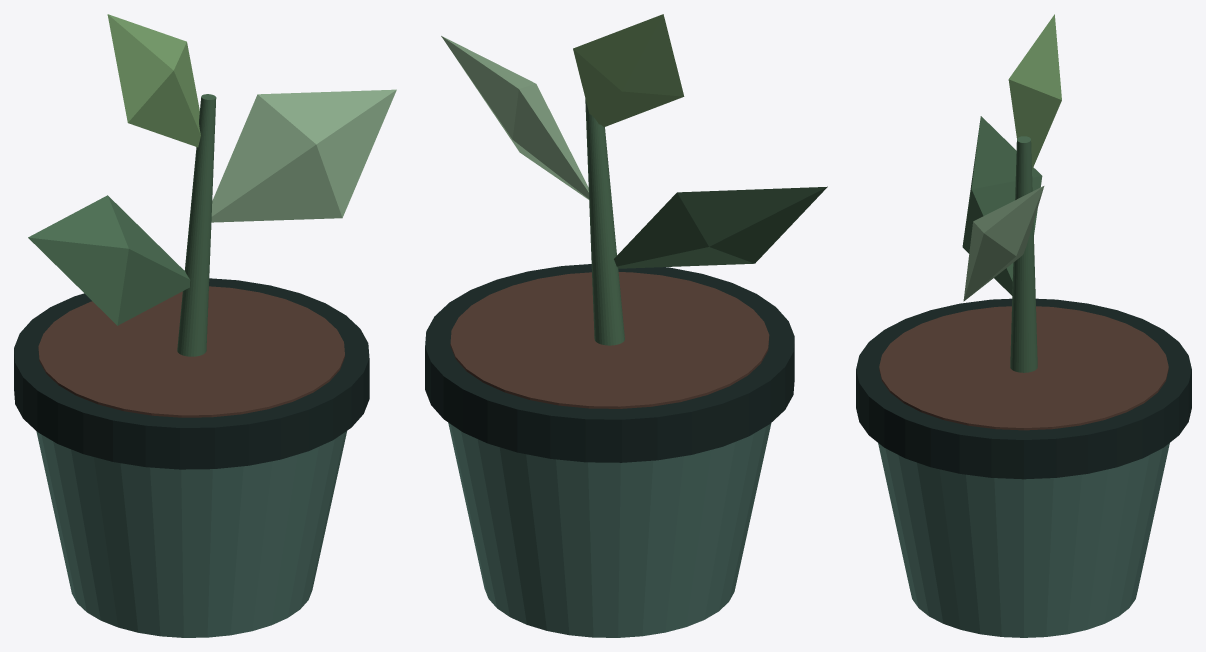
File: pot.glb
3 views of the same model, side by side, from view 1: azimuth 30°, elevation 25°; view 2: azimuth 150°, elevation 25°; view 3: azimuth 270°, elevation 25° (orthographic). The views are drawn at different scales.
Parts seen in each view (by area): view 1: ceramic pot, soil, rim, leaf 2, leaf 1, leaf 3, stem; view 2: ceramic pot, soil, rim, leaf 1, leaf 3, leaf 2, stem; view 3: ceramic pot, soil, rim, leaf 3, leaf 2, leaf 1, stem.
Boxes of the visible parts, x1,y1,x2,y2 form: ceramic pot: [36, 431, 346, 637]; soil: [38, 286, 344, 417]; rim: [14, 278, 369, 469]; leaf 2: [211, 89, 396, 222]; leaf 1: [28, 195, 190, 325]; leaf 3: [107, 14, 200, 147]; stem: [177, 94, 216, 356]; ceramic pot: [448, 422, 771, 637]; soil: [450, 272, 769, 408]; rim: [425, 264, 794, 462]; leaf 1: [614, 186, 827, 268]; leaf 3: [573, 14, 684, 127]; leaf 2: [441, 36, 589, 199]; stem: [585, 99, 624, 345]; ceramic pot: [878, 443, 1169, 637]; soil: [879, 306, 1168, 430]; rim: [856, 298, 1191, 479]; leaf 3: [1008, 14, 1061, 169]; leaf 2: [963, 186, 1044, 301]; leaf 1: [962, 116, 1042, 295]; stem: [1010, 136, 1037, 372].
Bounding box in the file's own units: 1.31 × 1.95 × 1.09.
